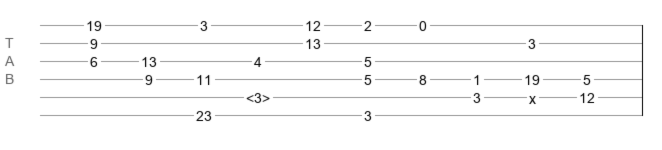0: (419, 18, 427, 28)
1: (473, 72, 481, 82)
11: (196, 72, 212, 82)
12: (305, 18, 321, 28), (579, 90, 595, 100)
13: (141, 54, 157, 64), (305, 36, 321, 46)
19: (86, 18, 102, 28), (524, 72, 540, 82)
2: (364, 18, 372, 28)
23: (196, 108, 212, 118)
3: (200, 18, 208, 28), (364, 108, 372, 118), (473, 90, 481, 100), (528, 36, 536, 46)
4: (254, 54, 262, 64)
5: (364, 72, 372, 82), (364, 54, 372, 64), (583, 72, 591, 82)
6: (90, 54, 98, 64)
8: (419, 72, 427, 82)
9: (90, 36, 98, 46), (145, 72, 153, 82)
harmonic: (246, 90, 270, 100)
x: (529, 91, 536, 99)
